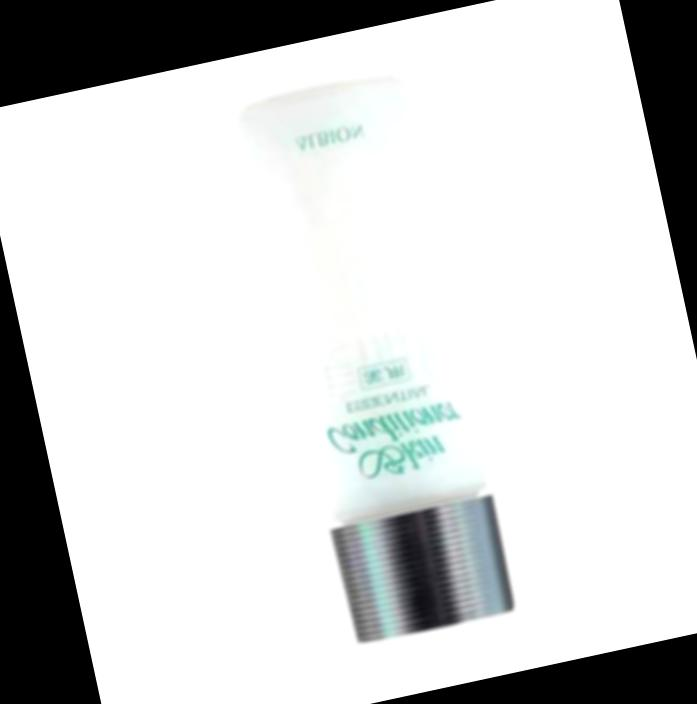cosmetic: (229, 69, 520, 650)
